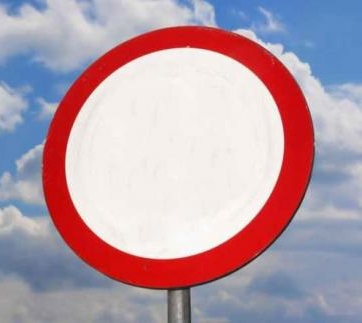no_entry_sign: (44, 24, 316, 287)
